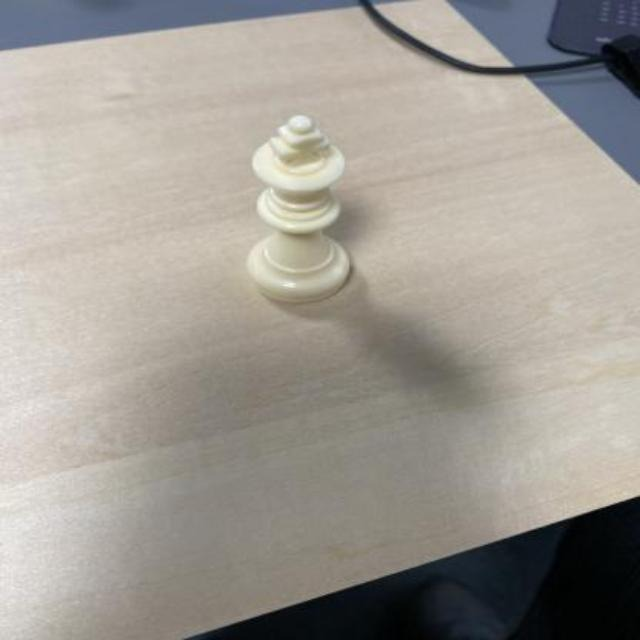white-king: (248, 113, 352, 302)
